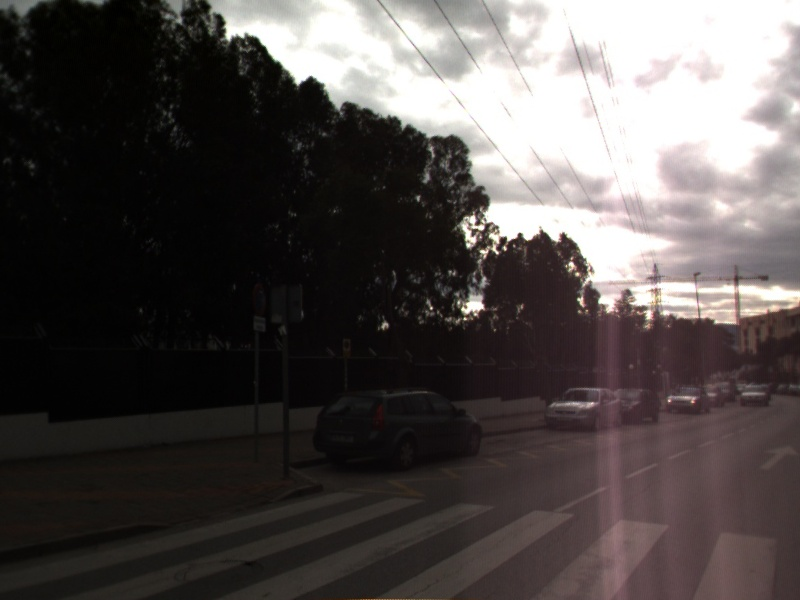STRAIGHT: (757, 442, 800, 472)
